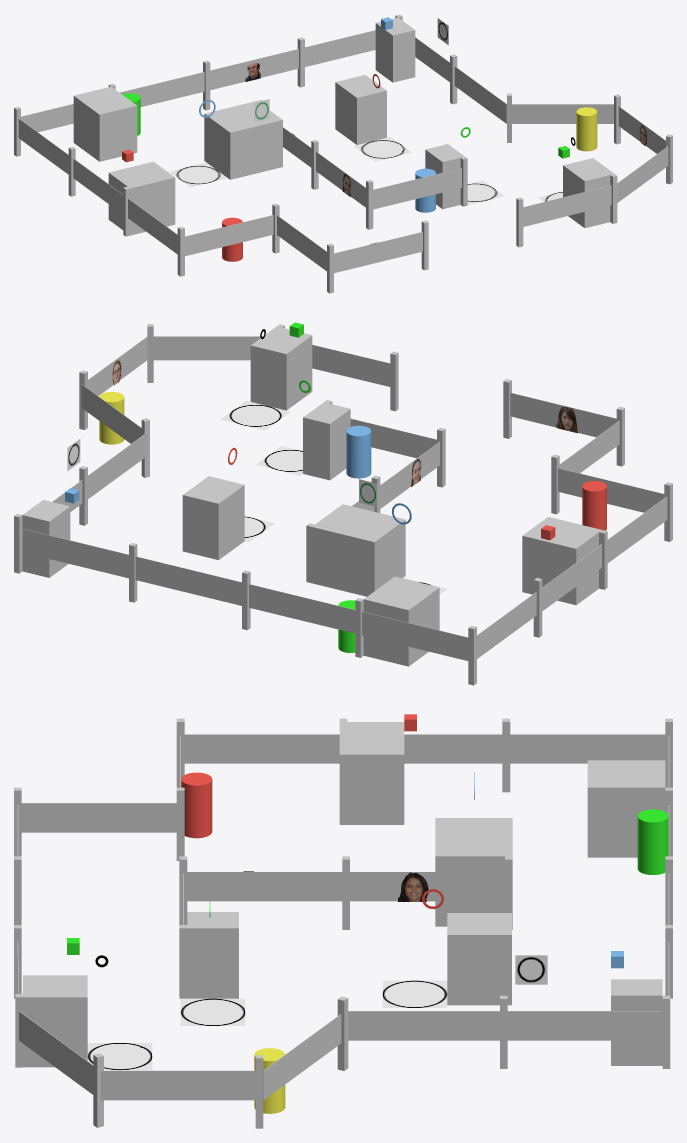
File: rins_2022_task2_p2.dae
3 renders of one model, top to bottom at view 1: azimuth 30°, elevation 25°; view 2: azimuth 150°, elevation 25°; view 3: azimuth 270°, elevation 25°, orthographic. The views are drawn at different scales.
Parts seen in each view (by area): view 1: rins_2022_task2_p2; view 2: rins_2022_task2_p2; view 3: rins_2022_task2_p2.
Boxes of the visible parts, <box> form: rins_2022_task2_p2: <box>14,14,672,293</box>; rins_2022_task2_p2: <box>14,322,672,685</box>; rins_2022_task2_p2: <box>14,714,672,1128</box>.
Bounding box in the file's own units: 6.22 × 5.1 × 0.95.
14 materials, 8 textured.
